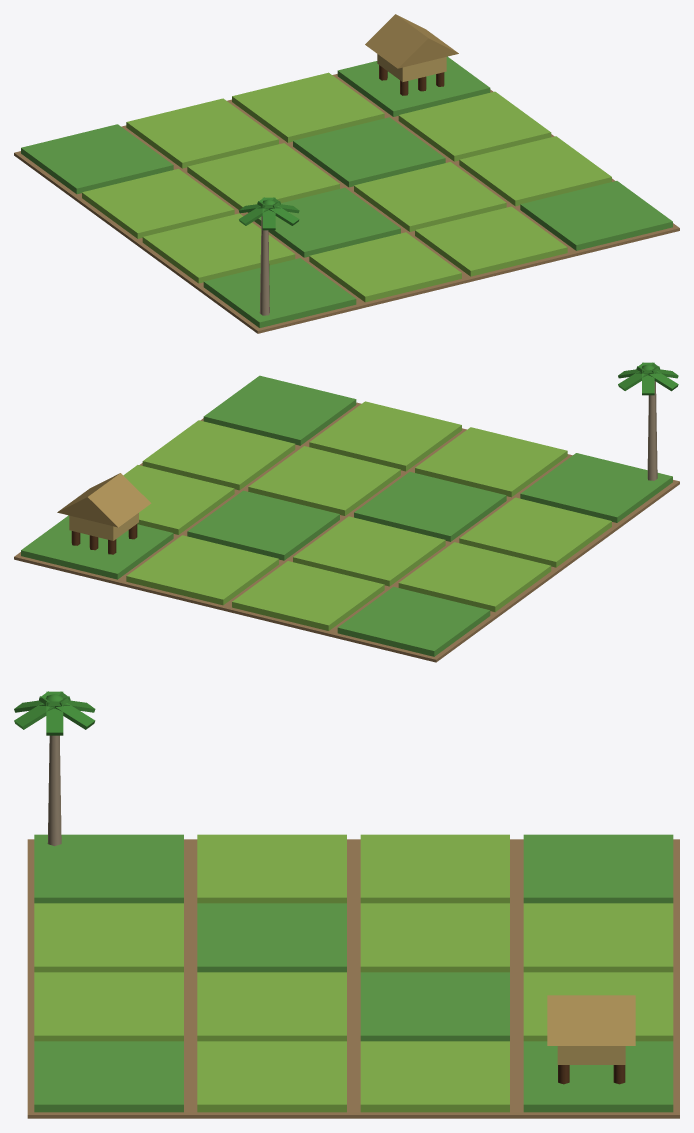
Rendered from building_sawah.glb.
3 renders of one model, top to bottom at view 1: azimuth 30°, elevation 25°; view 2: azimuth 150°, elevation 25°; view 3: azimuth 270°, elevation 25°, orthographic. The views are drawn at different scales.
Parts seen in each view (by area): view 1: building_sawah; view 2: building_sawah; view 3: building_sawah.
Part boxes in pixels (x1=…): building_sawah: x1=14, y1=14, x2=679, y2=333; building_sawah: x1=14, y1=362, x2=679, y2=662; building_sawah: x1=14, y1=691, x2=679, y2=1118.
Bounding box in the file's own units: 1.95 × 0.53 × 1.96.
